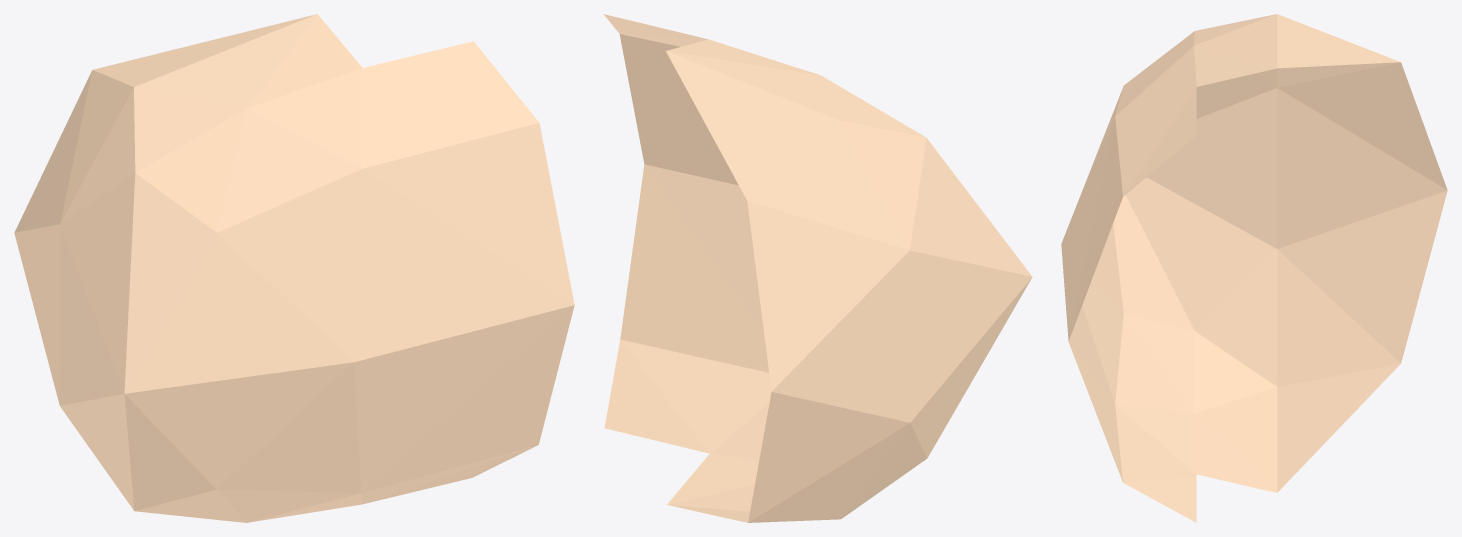
File: head5.glb
The picture shows the model from 3 angles, left to right: view 1: azimuth 30°, elevation 25°; view 2: azimuth 150°, elevation 25°; view 3: azimuth 270°, elevation 25°; orthographic projection. The views are drawn at different scales.
Visible parts, largest first — view 1: tomodachi-2026-03-06-18-14-23-943.007; view 2: tomodachi-2026-03-06-18-14-23-943.007; view 3: tomodachi-2026-03-06-18-14-23-943.007.
Boxes of the visible parts, x1=… form: tomodachi-2026-03-06-18-14-23-943.007: x1=14, y1=14, x2=574, y2=522; tomodachi-2026-03-06-18-14-23-943.007: x1=603, y1=14, x2=1032, y2=522; tomodachi-2026-03-06-18-14-23-943.007: x1=1061, y1=14, x2=1447, y2=522.
Size of the model in its own units: 0.9783 by 1.04 by 0.8567.
Materials: 1 (1 with a texture image).
